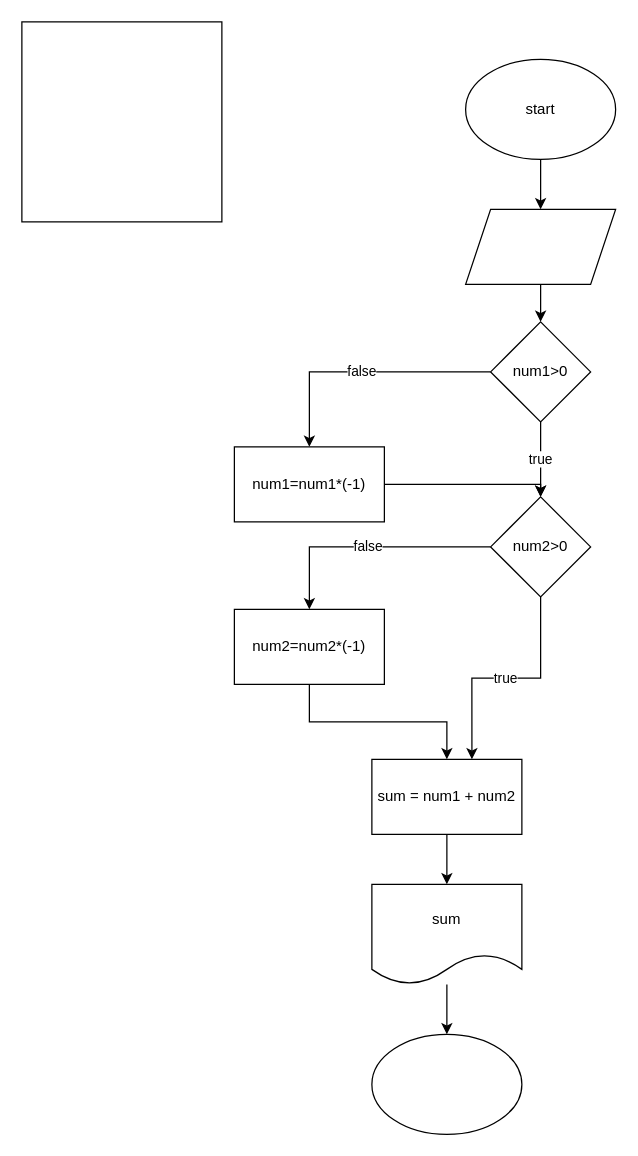
Image size: 638x1156. Some labels were removed from this diagram. Each missing label, with the centre of its shape:
end: (446,1083)
num1, num2: (540,246)
Verilmiş iki ədədin modulları cəmini tapan alqoritm: (121,121)
